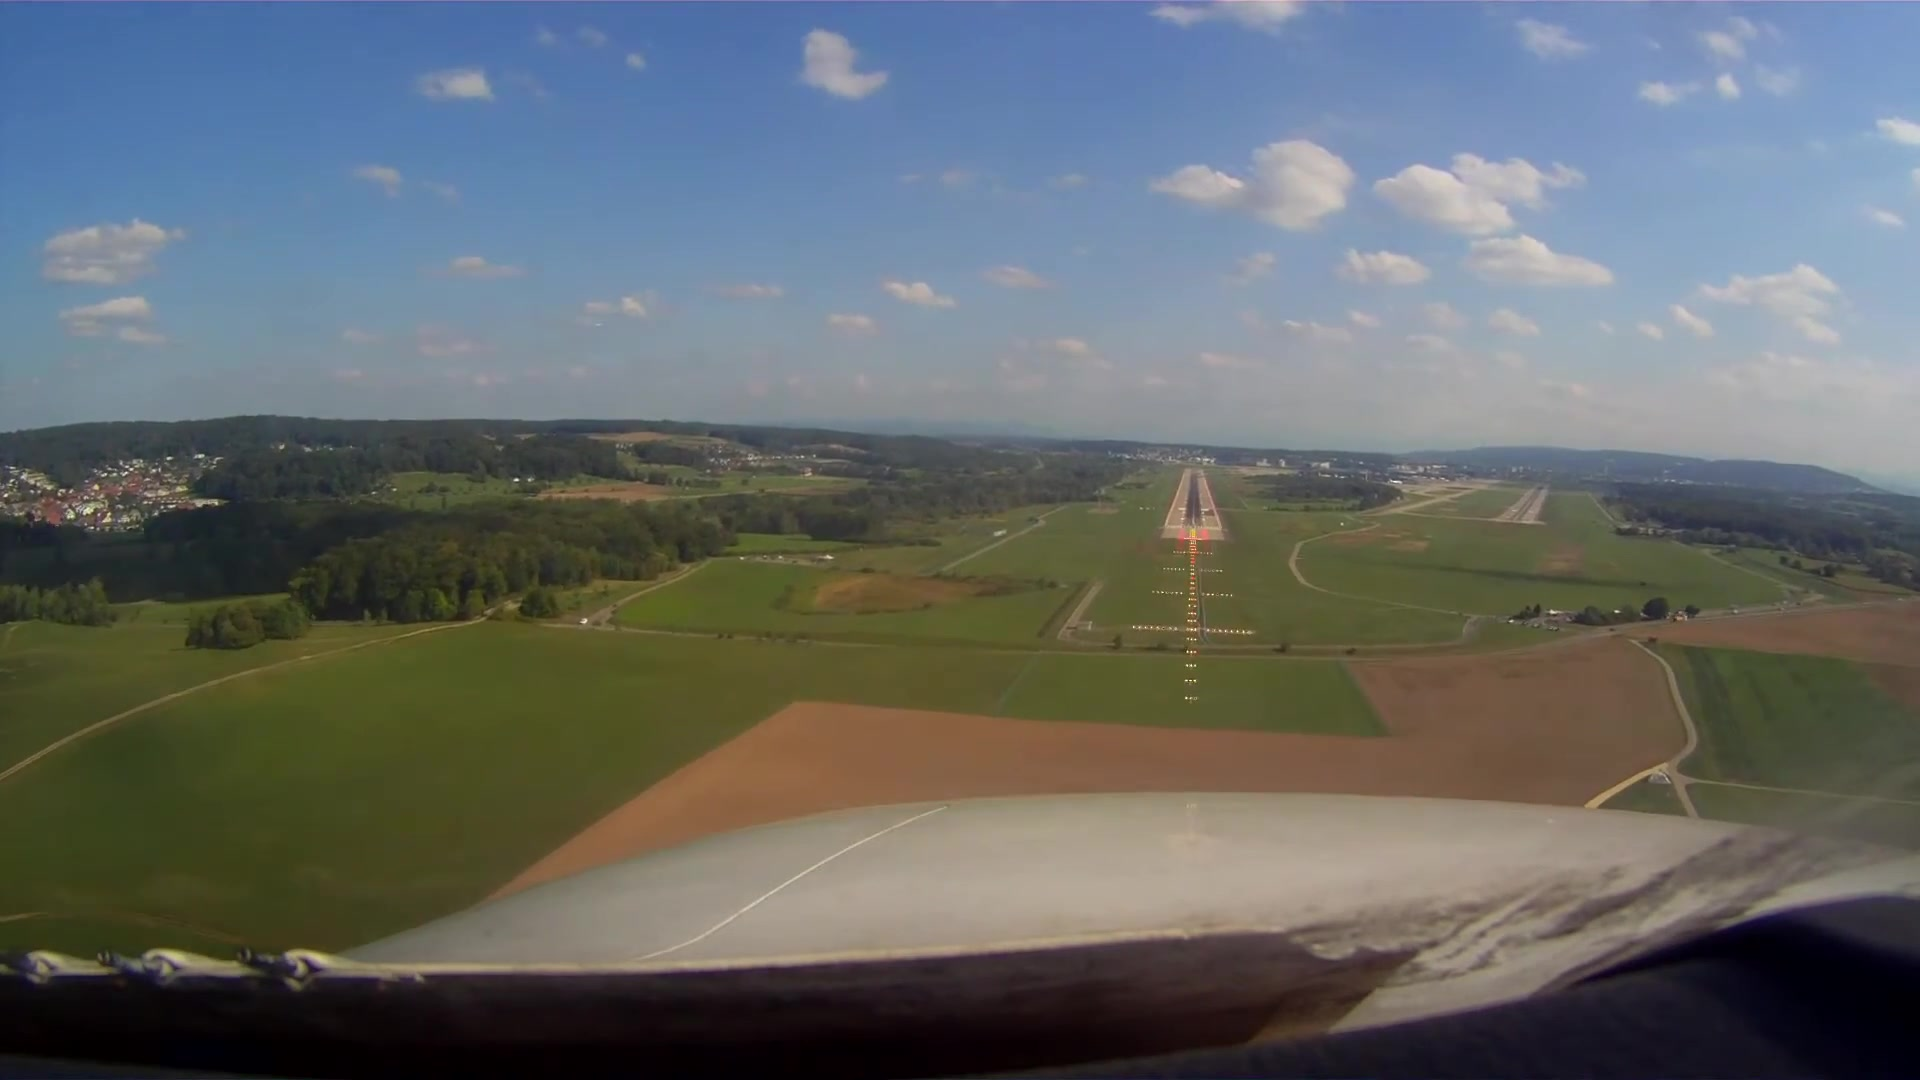runway: (1160, 462, 1226, 529), (1502, 481, 1556, 520)
